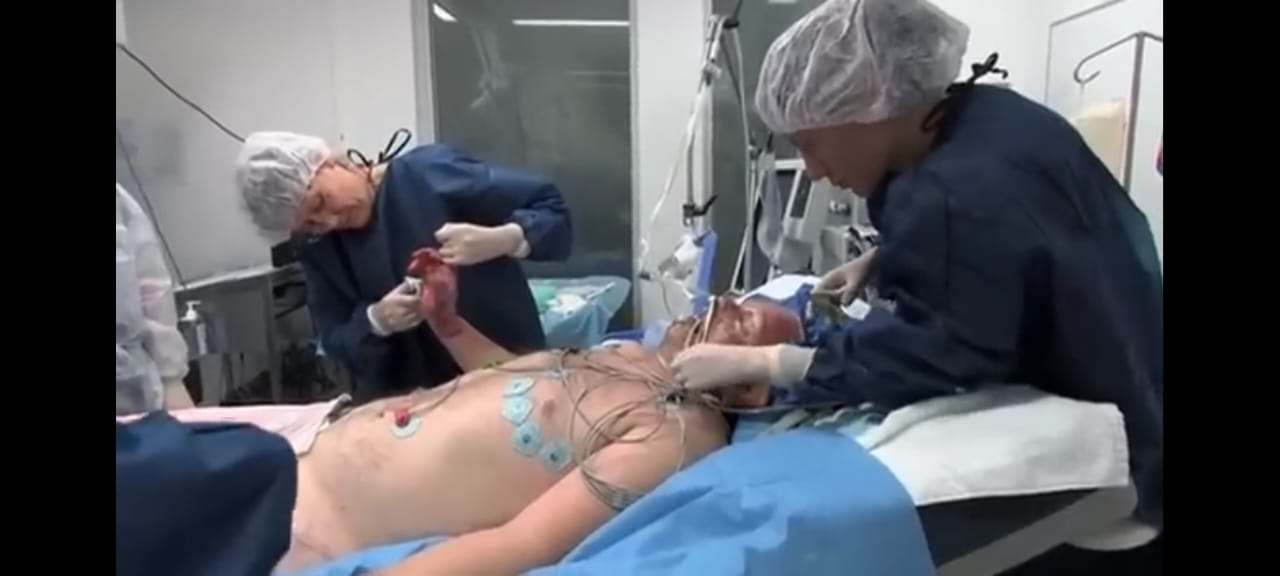doctor: (744, 6, 1160, 452), (229, 123, 573, 380)
patient: (116, 291, 812, 573)
